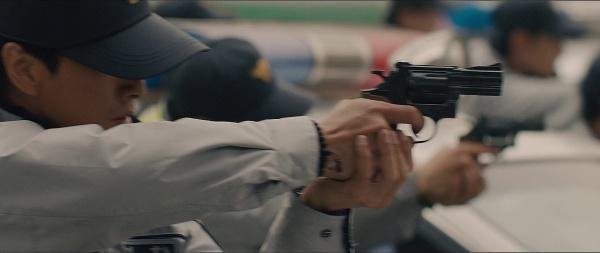Gun: (361, 61, 503, 131)
